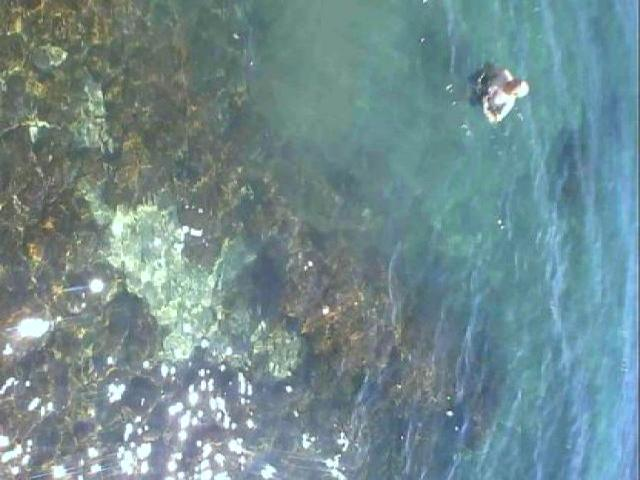swimming: (462, 61, 536, 134)
